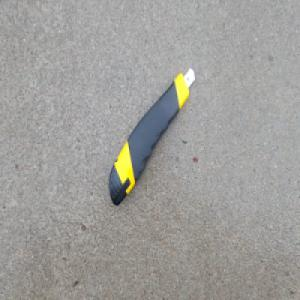Cutter: (106, 63, 198, 208)
